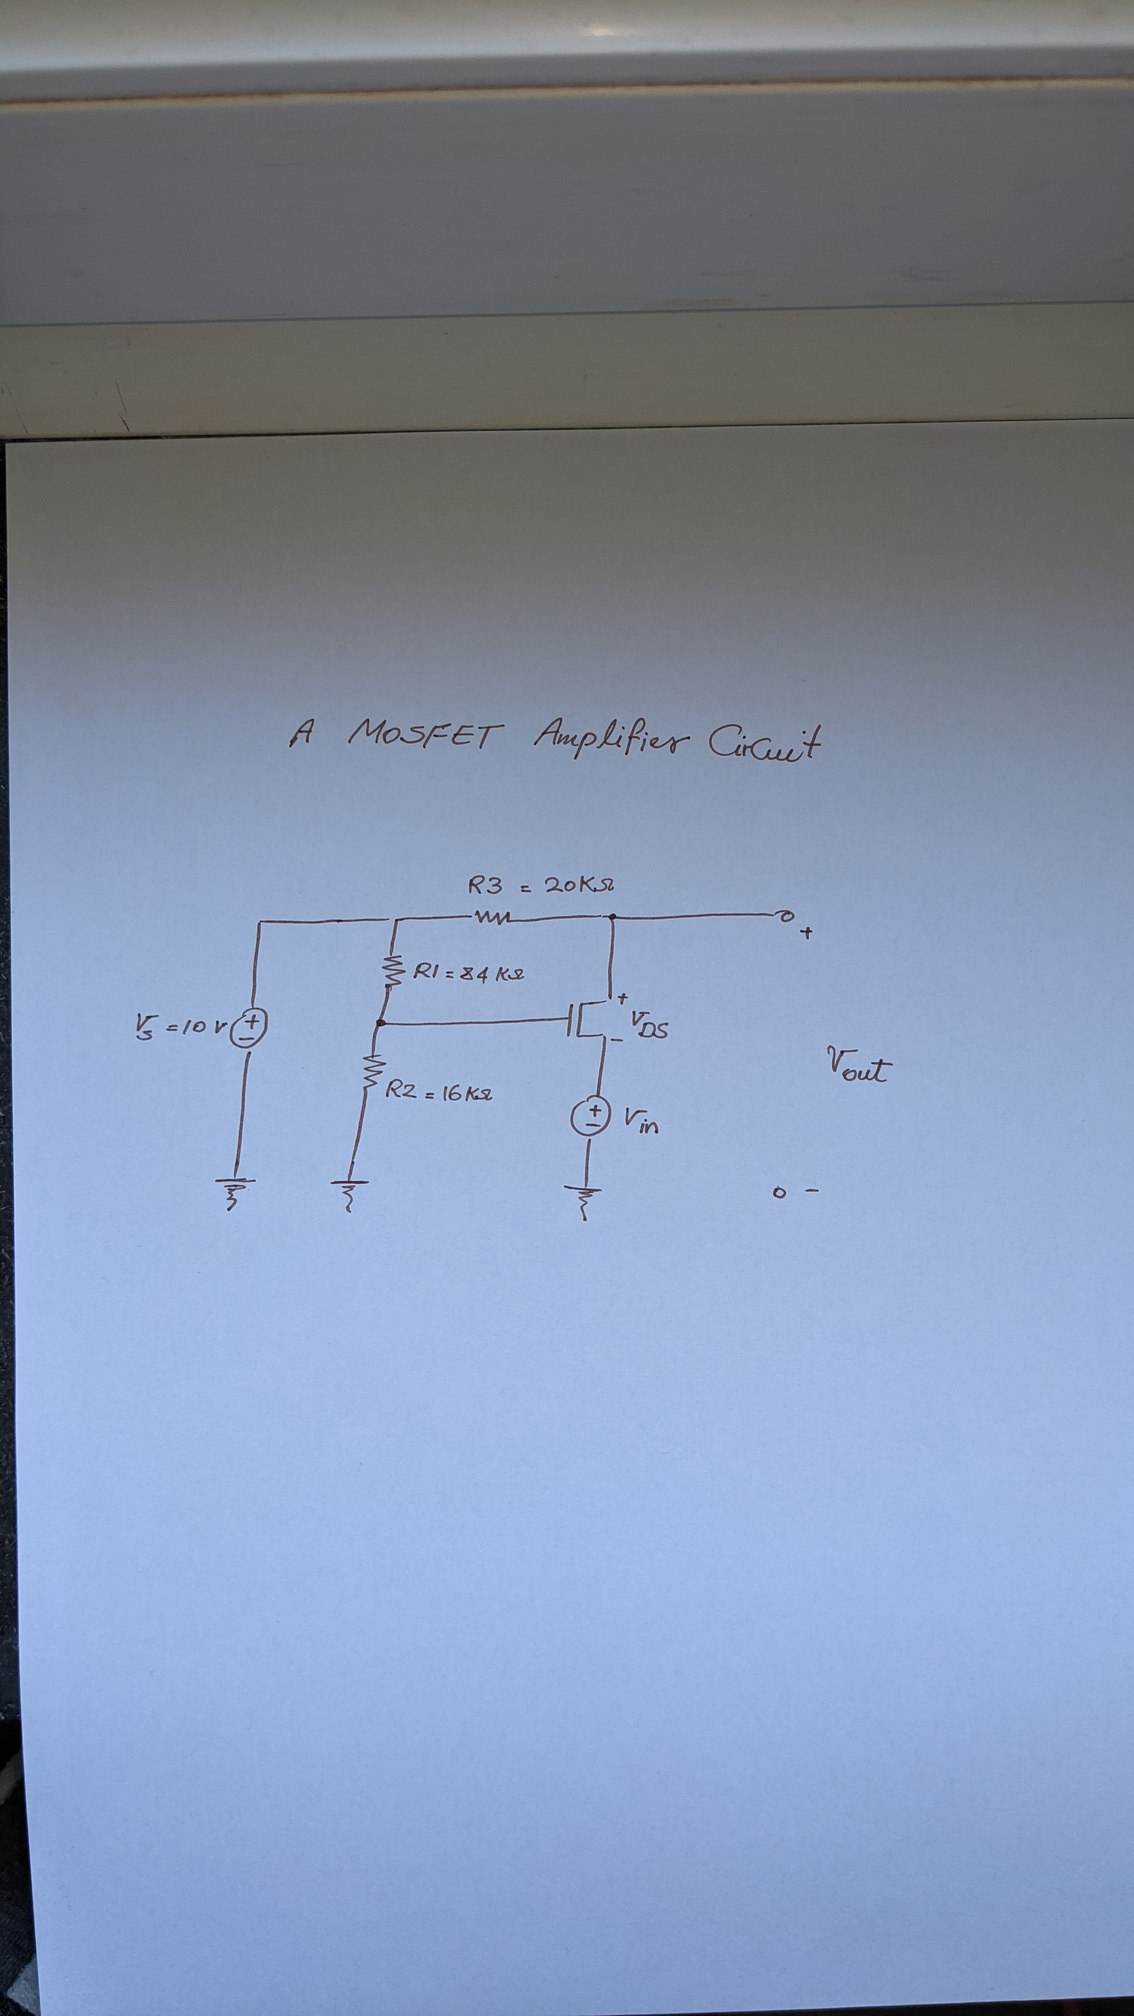gnd: (213, 1174, 258, 1214), (561, 1182, 604, 1223), (330, 1178, 371, 1216)
junction: (602, 910, 620, 924), (372, 1016, 388, 1029), (384, 915, 403, 925), (253, 917, 266, 928)
resistor: (379, 953, 408, 991), (359, 1052, 388, 1090), (469, 908, 514, 928)
terminal: (768, 907, 798, 924), (768, 1184, 791, 1200)
text: (285, 713, 825, 767), (467, 872, 616, 896), (133, 1011, 230, 1043), (413, 960, 526, 986), (384, 1077, 496, 1104), (824, 1043, 894, 1084), (630, 1008, 672, 1041), (623, 1105, 662, 1135), (798, 924, 818, 942), (802, 1184, 822, 1196), (616, 991, 629, 1007), (609, 1036, 627, 1045)
transistor: (565, 996, 615, 1040)
voltage.dc: (568, 1092, 613, 1141), (228, 1005, 271, 1054)
